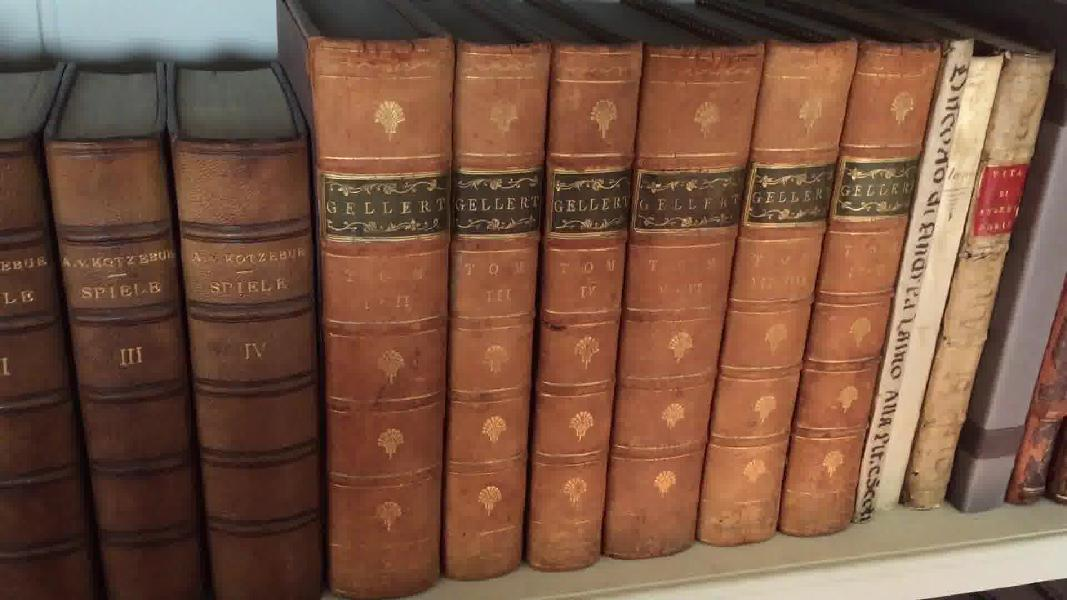Aa6-18_23: (327, 24, 942, 600)
Aa6-24: (847, 31, 966, 538)
Aa6-25: (866, 8, 985, 536)
Aa6-26: (909, 11, 1046, 561)
